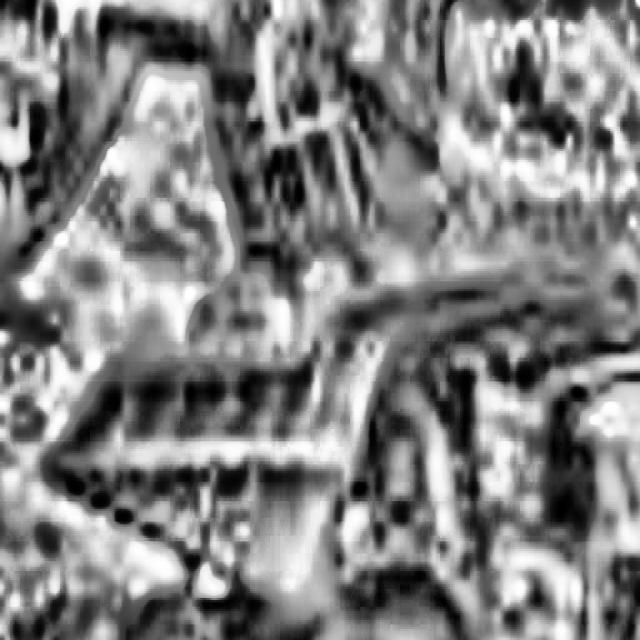dump_truck: (46, 238, 640, 640)
